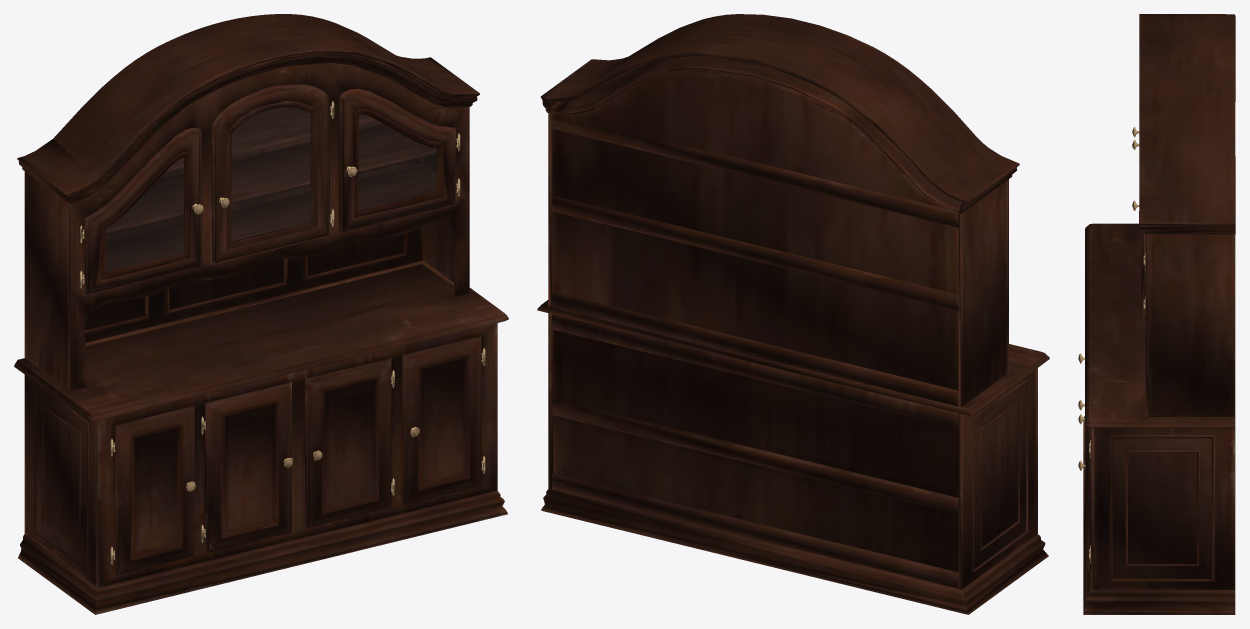
Rendered from vintage_cabinet_01.glb.
3 views of the same model, side by side, from view 1: azimuth 30°, elevation 25°; view 2: azimuth 150°, elevation 25°; view 3: azimuth 270°, elevation 25° (orthographic). The views are drawn at different scales.
Visible parts, largest first — view 1: vintage_cabinet_01_body, vintage_cabinet_01_door_03, vintage_cabinet_01_door_01, vintage_cabinet_01_door_04, vintage_cabinet_01_door_06, vintage_cabinet_01_door_07, vintage_cabinet_01_door_05, vintage_cabinet_01_door_02; view 2: vintage_cabinet_01_body; view 3: vintage_cabinet_01_body, vintage_cabinet_01_door_02, vintage_cabinet_01_door_04.
Part boxes in pixels (bbox=[...]): vintage_cabinet_01_body: bbox=[14, 14, 508, 614]; vintage_cabinet_01_door_03: bbox=[210, 84, 332, 264]; vintage_cabinet_01_door_01: bbox=[82, 128, 203, 295]; vintage_cabinet_01_door_04: bbox=[338, 88, 458, 233]; vintage_cabinet_01_door_06: bbox=[204, 382, 292, 553]; vintage_cabinet_01_door_07: bbox=[305, 357, 392, 528]; vintage_cabinet_01_door_05: bbox=[113, 406, 195, 575]; vintage_cabinet_01_door_02: bbox=[402, 336, 483, 505]; vintage_cabinet_01_body: bbox=[537, 14, 1049, 614]; vintage_cabinet_01_body: bbox=[1083, 14, 1235, 614]; vintage_cabinet_01_door_02: bbox=[1078, 426, 1090, 572]; vintage_cabinet_01_door_04: bbox=[1132, 200, 1145, 319].
Size of the model in its own units: 2.02 by 2.23 by 0.6698.
3 materials, 2 textured.
